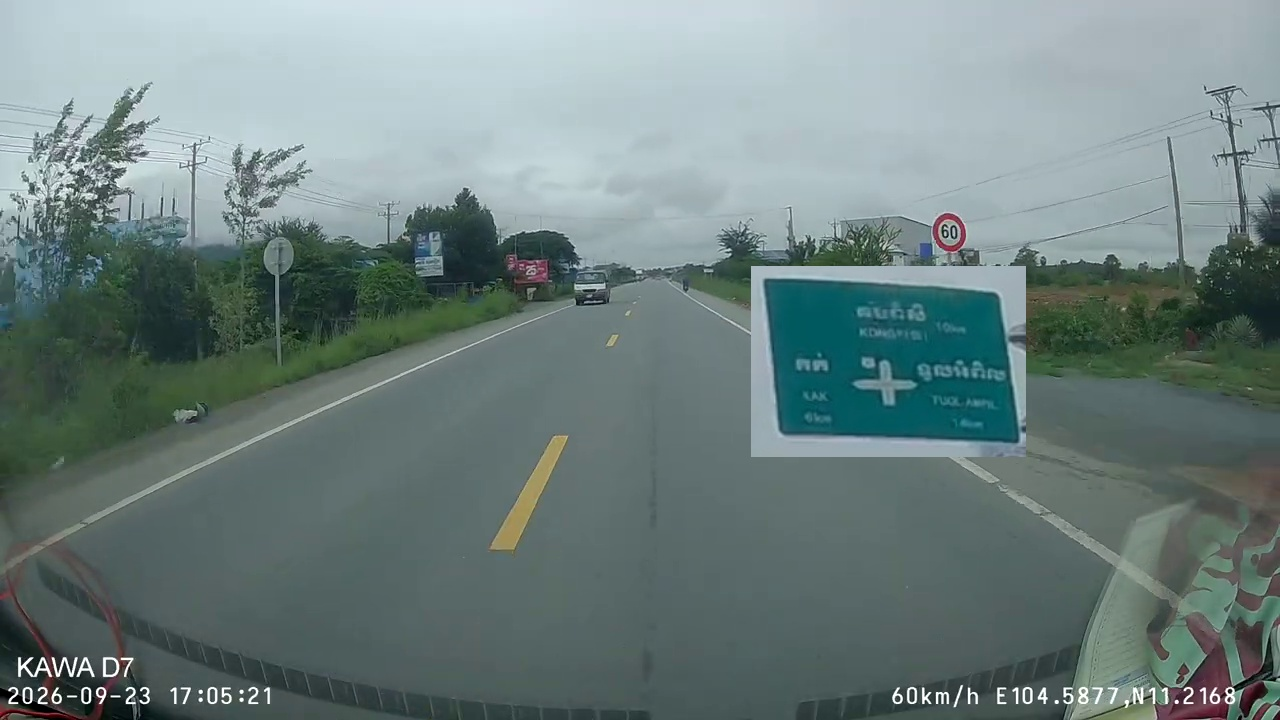direction_sign: (751, 266, 1026, 457)
